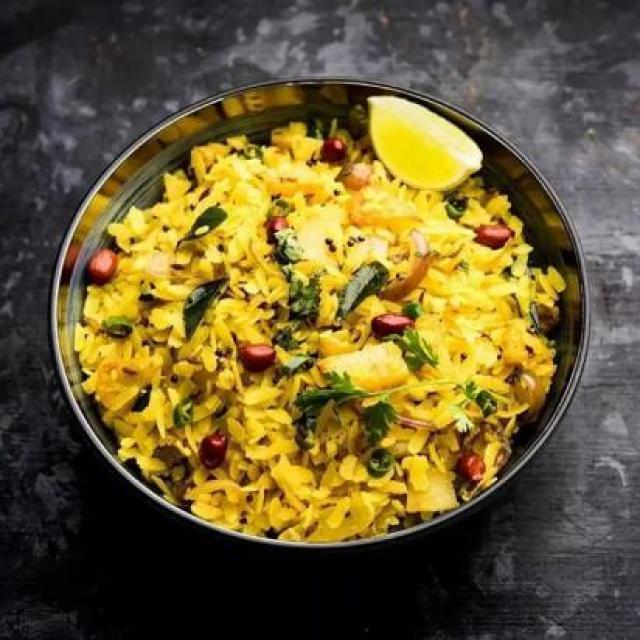poha: (97, 124, 569, 500)
